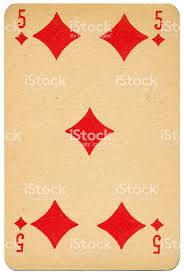five of diamonds: (5, 3, 181, 270)
